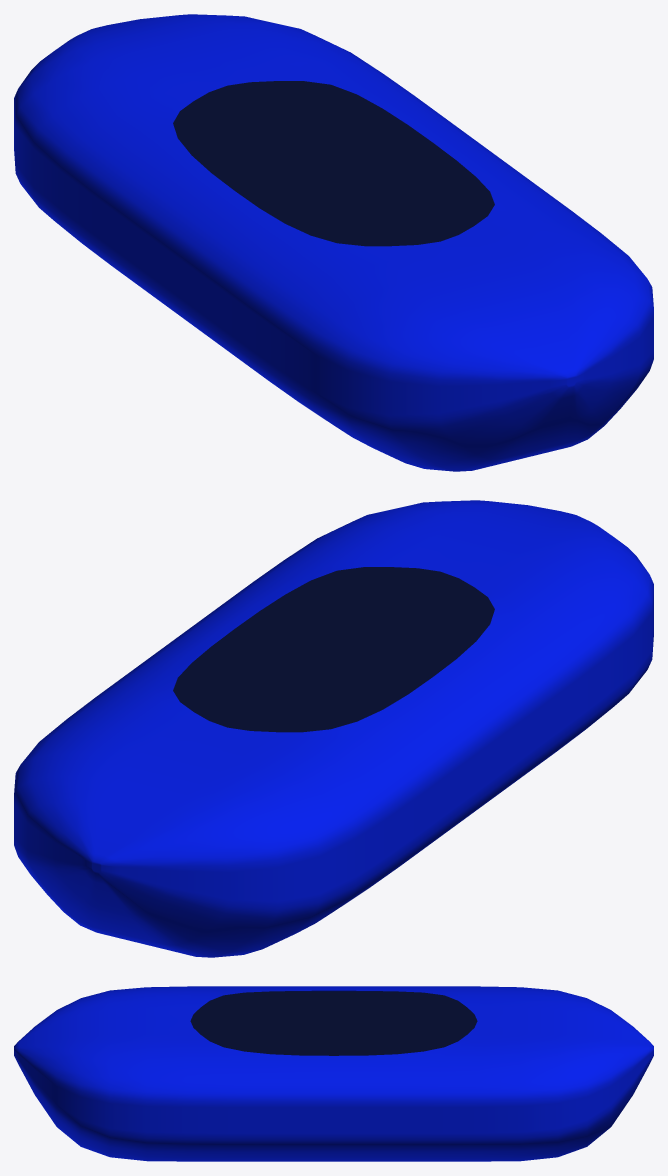
The model's file is Kayak-Canoe.obj.
3 renders of one model, top to bottom at view 1: azimuth 30°, elevation 25°; view 2: azimuth 150°, elevation 25°; view 3: azimuth 270°, elevation 25°, orthographic. The views are drawn at different scales.
Parts seen in each view (by area): view 1: Box001, Box002; view 2: Box001, Box002; view 3: Box001, Box002.
Part boxes in pixels (x1,y1,x2,y2): Box001: [14, 14, 653, 471]; Box002: [173, 81, 494, 246]; Box001: [14, 500, 653, 957]; Box002: [173, 567, 494, 732]; Box001: [14, 986, 653, 1161]; Box002: [190, 991, 477, 1055].
Bounding box in the file's own units: 40 × 20 × 100.
